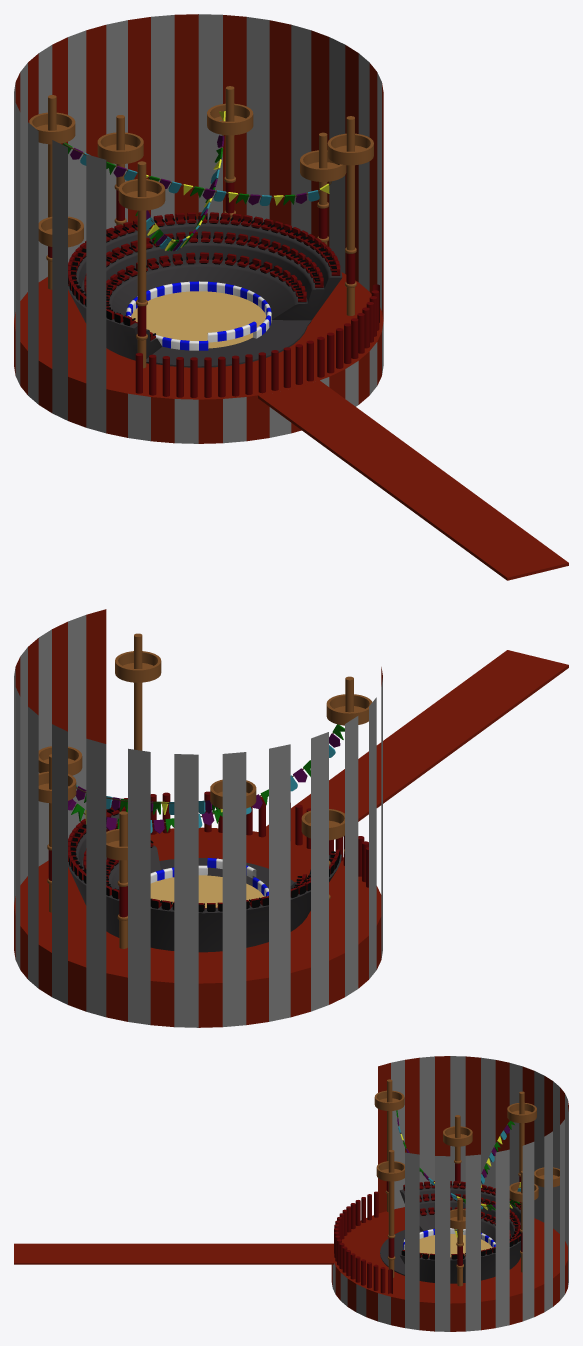
Rendered from Sala Boss Final Circo.fbx.
3 views of the same model, one above another, from view 1: azimuth 30°, elevation 25°; view 2: azimuth 150°, elevation 25°; view 3: azimuth 270°, elevation 25° (orthographic). The views are drawn at different scales.
Parts seen in each view (by area): view 1: Cylinder, Cylinder.002, Cylinder.003, Cube.002, Cube; view 2: Cylinder, Cylinder.002, Cylinder.003, Cube, Cube.002; view 3: Cylinder, Cylinder.002, Cylinder.003, Cube.002, Cube.
Part boxes in pixels (x1,y1,x2,y2): Cylinder: (14, 14, 568, 580); Cylinder.002: (29, 86, 373, 368); Cylinder.003: (135, 284, 379, 397); Cube.002: (62, 142, 329, 205); Cube: (135, 111, 225, 251); Cylinder: (14, 609, 568, 1027); Cylinder.002: (38, 633, 372, 948); Cylinder.003: (111, 791, 368, 887); Cube: (68, 724, 344, 833); Cube.002: (75, 785, 222, 814); Cylinder: (14, 1056, 568, 1331); Cylinder.002: (374, 1079, 559, 1286); Cylinder.003: (334, 1191, 392, 1293); Cube.002: (454, 1121, 514, 1237); Cube: (396, 1110, 520, 1210).
Size of the model in its own units: 11834 by 9668 by 27677.
